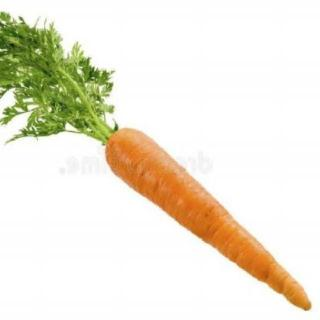carrot: (86, 104, 310, 318)
